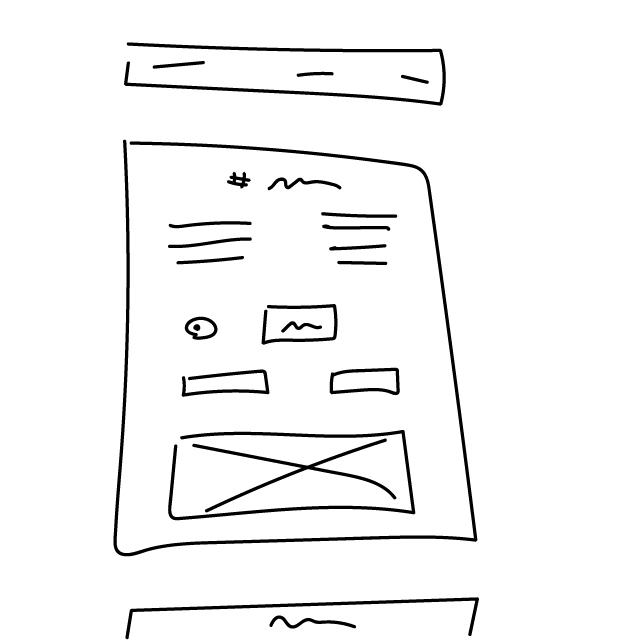button: (261, 303, 344, 347)
checkbox: (183, 316, 224, 342)
container: (99, 125, 498, 567)
footer: (116, 591, 484, 640)
frame: (165, 427, 424, 521)
heading: (225, 167, 346, 205)
input: (180, 367, 274, 398), (325, 365, 408, 400)
nav: (120, 37, 452, 110)
text: (160, 212, 262, 279), (315, 207, 407, 276)
